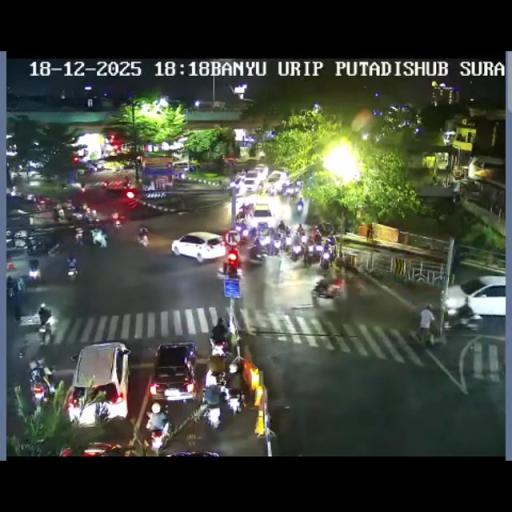Car: (66, 342, 130, 424), (148, 342, 198, 404), (444, 275, 506, 319), (169, 232, 226, 262), (234, 166, 268, 194), (243, 204, 276, 230), (266, 169, 294, 194), (80, 441, 126, 455), (105, 176, 133, 194), (172, 162, 193, 178)
Motorcycle: (244, 221, 334, 263), (58, 200, 112, 248), (200, 384, 226, 426), (408, 317, 442, 348), (144, 418, 171, 454), (206, 341, 230, 381), (312, 278, 342, 310), (28, 362, 46, 403), (225, 384, 243, 416), (217, 258, 241, 281), (338, 255, 360, 277), (37, 317, 53, 345), (321, 245, 336, 267), (46, 239, 64, 257), (234, 218, 250, 238), (26, 238, 46, 254), (289, 242, 304, 262), (28, 263, 42, 284), (265, 237, 280, 256), (368, 265, 386, 280), (85, 215, 102, 230), (306, 246, 320, 264), (66, 261, 78, 281), (252, 236, 264, 256), (137, 230, 149, 248), (70, 208, 84, 222), (74, 228, 85, 245), (111, 214, 122, 230), (34, 198, 46, 212), (99, 227, 108, 245), (248, 225, 258, 241), (62, 200, 74, 213), (366, 223, 374, 242), (236, 207, 246, 222), (259, 223, 270, 236), (313, 229, 322, 244), (276, 220, 286, 233), (52, 207, 61, 221), (326, 234, 335, 248), (296, 224, 305, 237), (452, 190, 461, 203), (283, 225, 291, 237), (26, 193, 35, 202), (80, 202, 88, 212), (10, 186, 18, 196), (296, 201, 303, 212), (295, 179, 303, 188), (238, 170, 246, 179), (301, 234, 308, 244), (90, 209, 97, 218), (79, 185, 86, 193), (101, 180, 108, 187)
